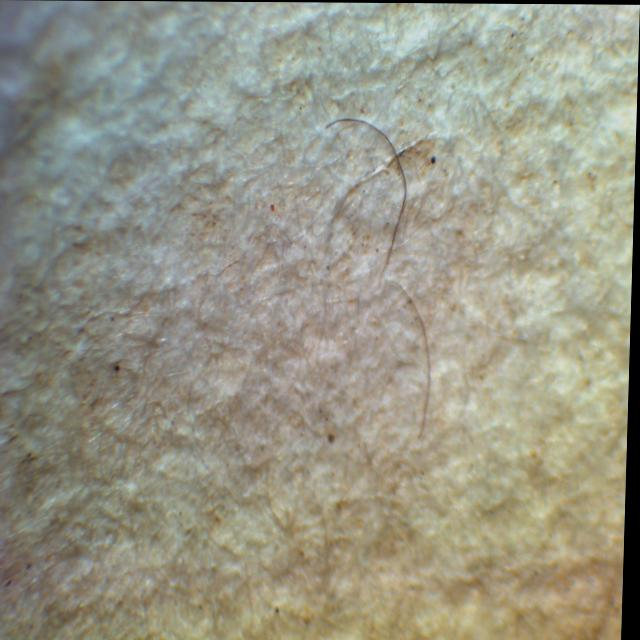microplastic: (326, 118, 408, 266)
